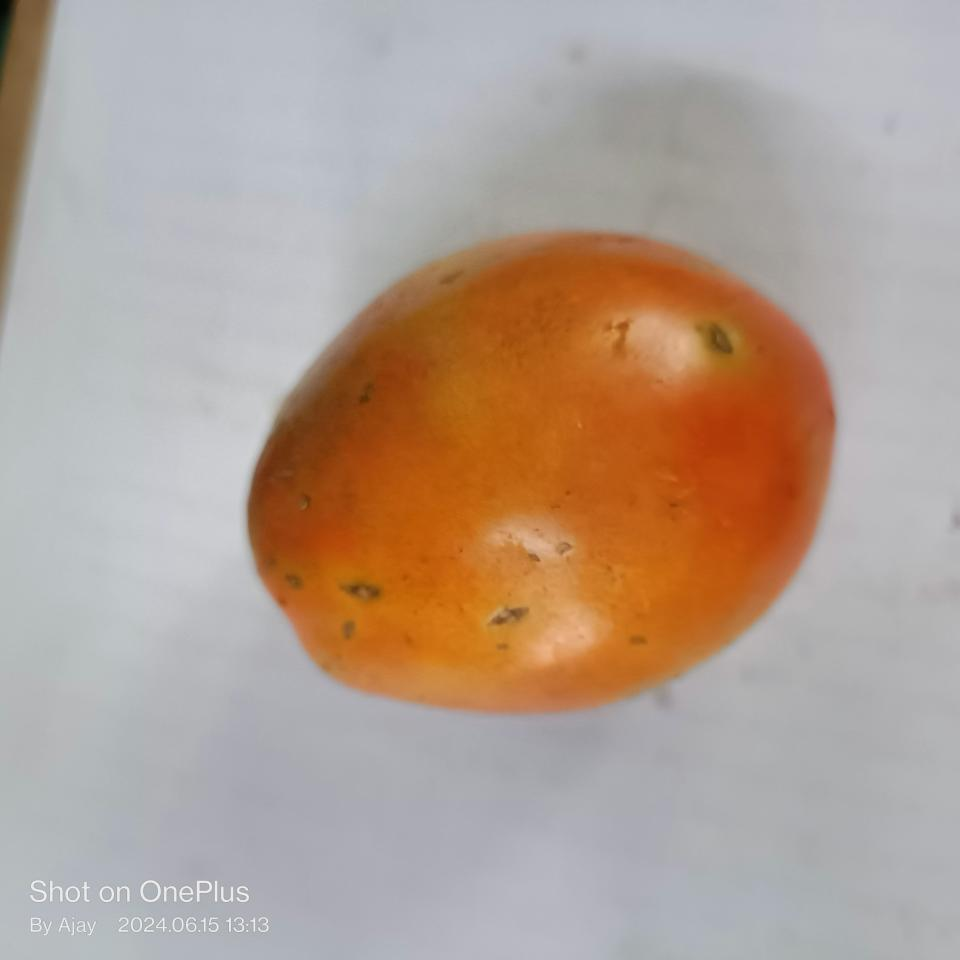Bacterial_Spot: (331, 572, 393, 612), (697, 316, 743, 366), (483, 599, 538, 633)
